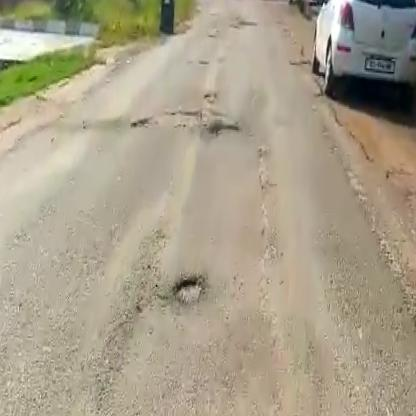pothole: (128, 105, 204, 134), (164, 273, 209, 309), (205, 117, 243, 139)
